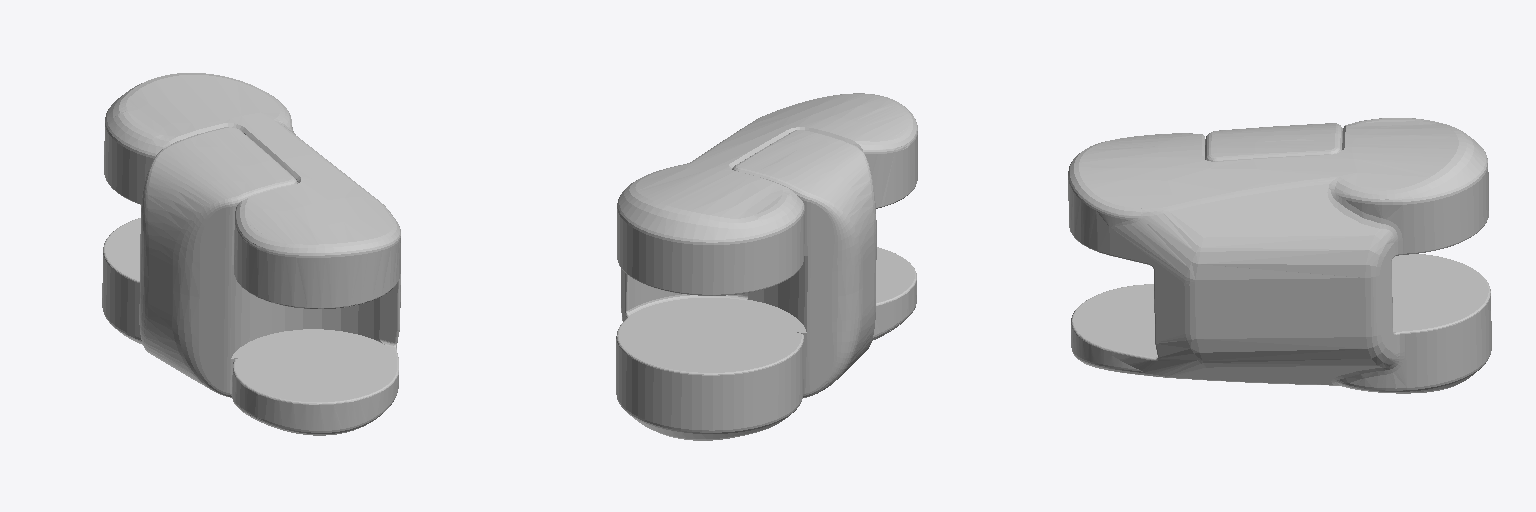
File: converted_r3_finger_middle_col_808080ff.obj
3 views of the same model, side by side, from view 1: azimuth 30°, elevation 25°; view 2: azimuth 150°, elevation 25°; view 3: azimuth 270°, elevation 25° (orthographic).
Size of the model in its own units: 0.0338 by 0.0358 by 0.061.